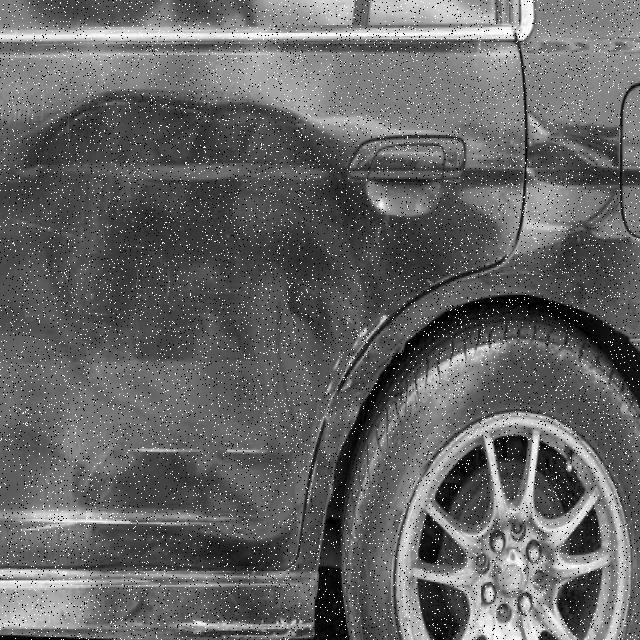Runningboard-Damage: (1, 578, 352, 639)
doorouter-dent: (1, 36, 512, 573)
quaterpanel-dent: (508, 20, 638, 440)
